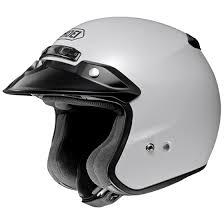helmet: (4, 17, 220, 206)
